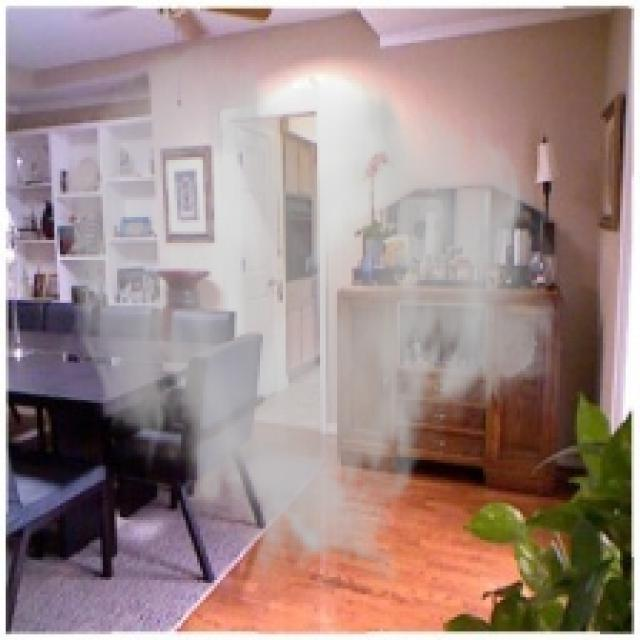Smoke: (46, 39, 563, 594)
